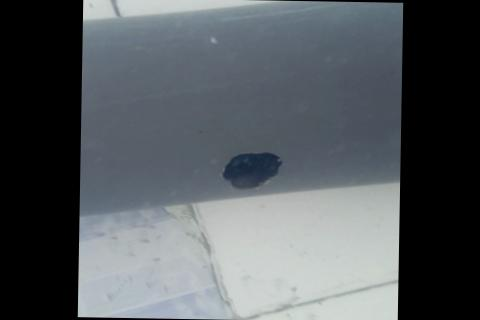kebocoran: (219, 147, 284, 190)
